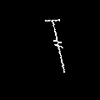treble_crochet: (45, 19, 64, 71)
